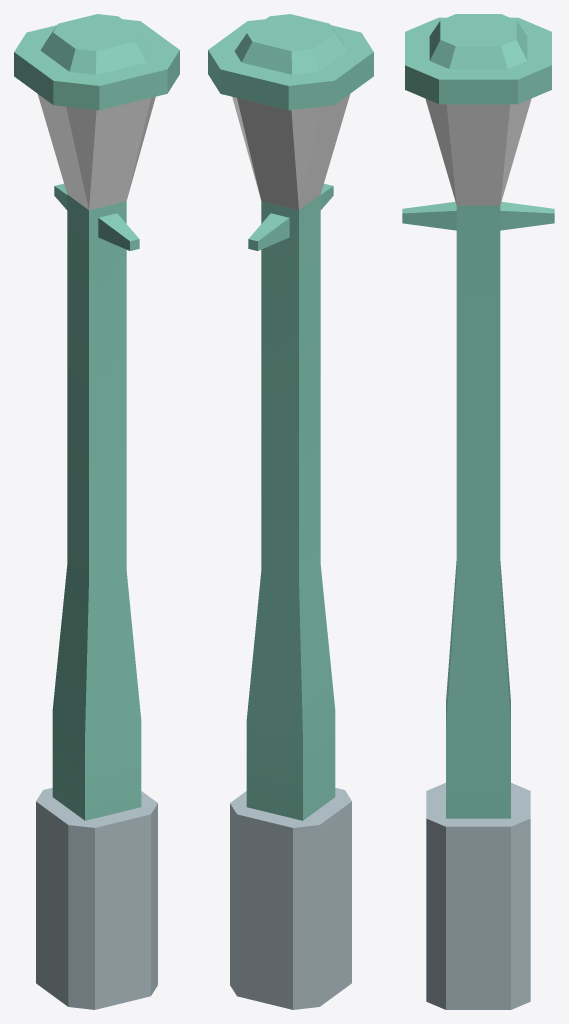
Rendered from lantern.glb.
The picture shows the model from 3 angles, left to right: view 1: azimuth 30°, elevation 25°; view 2: azimuth 150°, elevation 25°; view 3: azimuth 270°, elevation 25°; orthographic projection.
Visible parts, largest first — view 1: lantern; view 2: lantern; view 3: lantern.
Part boxes in pixels (<box>): lantern: <box>14,14,179,1009</box>; lantern: <box>208,14,373,1009</box>; lantern: <box>402,14,554,1009</box>.
Bounding box in the file's own units: 0.2163 × 1.56 × 0.2243.
